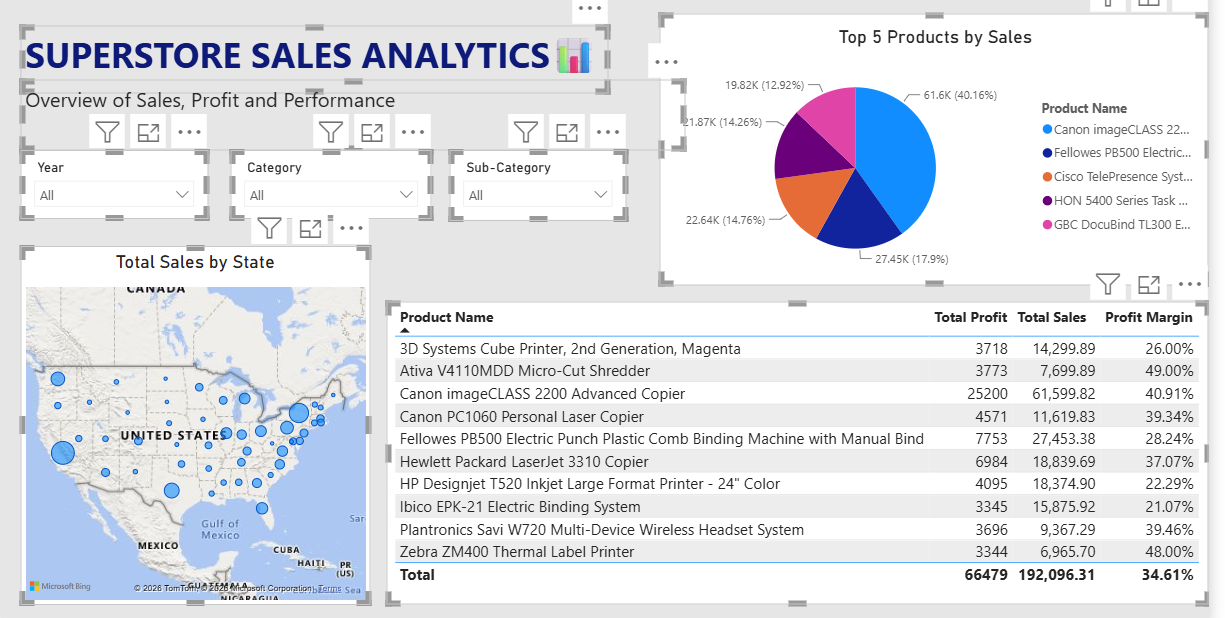

The page's visual inventory and layout, read from the dashboard file:
{"tool":"powerbi","page":{"name":"Product Analysis","canvas":[1280,720],"ordinal":2},"visuals":[{"type":"textbox","box":[20.7,84.3,623.5,71.6],"z":0},{"type":"textbox","box":[20.7,141.6,704.6,74.8],"z":1000},{"type":"pieChart","title":"Top 5 Products by Sales","fields":{"Category":["superstore.Product Name"],"Y":["superstore.Total Sales"]},"box":[698.3,71.6,582.2,287.9],"z":2000},{"type":"slicer","fields":{"Values":["superstore.Category"]},"box":[243.4,216.3,213.1,73.2],"z":3000},{"type":"slicer","fields":{"Values":["superstore.Sub-Category"]},"box":[475.6,216.3,187.1,74.2],"z":4000},{"type":"slicer","fields":{"Values":["DateTable.Date.Variation.Date Hierarchy.Year"]},"box":[20.7,216.3,198.4,72.6],"z":5000},{"type":"tableEx","fields":{"Values":["superstore.Product Name","superstore.Total Profit","superstore.Total Sales","superstore.Profit Margin"]},"box":[408.8,377,871.7,321.3],"z":6000},{"type":"map","title":"Total Sales by State","fields":{"Category":["superstore.State"],"Size":["superstore.Total Sales"]},"box":[20.7,318.1,370.6,380.2],"z":7000}]}

Visuals, with their boxes on the page's 1280x720 design canvas (x1, y1, x2, y2). These are canvas units, not pixel positions in the 1225x618 screenshot, which may show the page scaled, cropped or inside an application window:
textbox: bbox=(21, 84, 644, 156)
textbox: bbox=(21, 142, 725, 216)
"Top 5 Products by Sales" pieChart: bbox=(698, 72, 1280, 360)
slicer - superstore.Category: bbox=(243, 216, 456, 290)
slicer - superstore.Sub-Category: bbox=(476, 216, 663, 290)
slicer - DateTable.Date.Variation.Date Hierarchy.Year: bbox=(21, 216, 219, 289)
tableEx - superstore.Product Name x superstore.Total Profit: bbox=(409, 377, 1280, 698)
"Total Sales by State" map: bbox=(21, 318, 391, 698)
